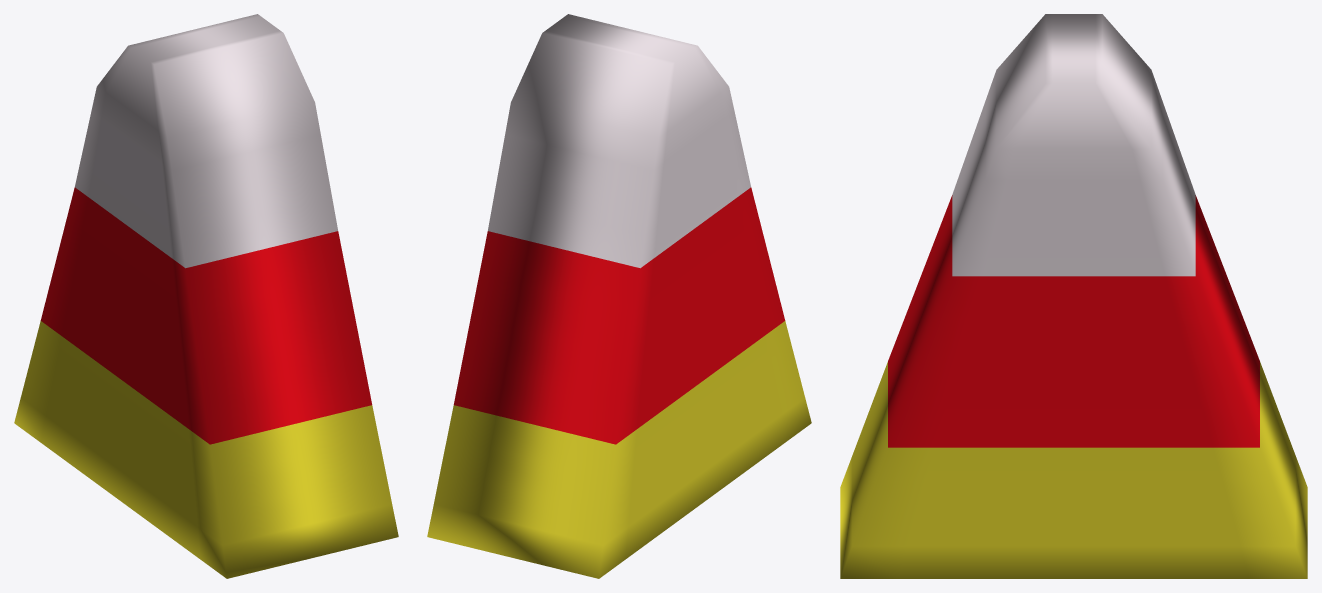
Rendered from CandyCorn.fbx.
3 renders of one model, left to right at view 1: azimuth 30°, elevation 25°; view 2: azimuth 150°, elevation 25°; view 3: azimuth 270°, elevation 25°, orthographic. The views are drawn at different scales.
Visible parts, largest first — view 1: Cube; view 2: Cube; view 3: Cube.
Boxes of the visible parts, x1,y1,x2,y2 form: Cube: [14, 14, 398, 578]; Cube: [427, 14, 811, 578]; Cube: [840, 14, 1307, 578].
Size of the model in its own units: 93.27 by 229 by 200.
